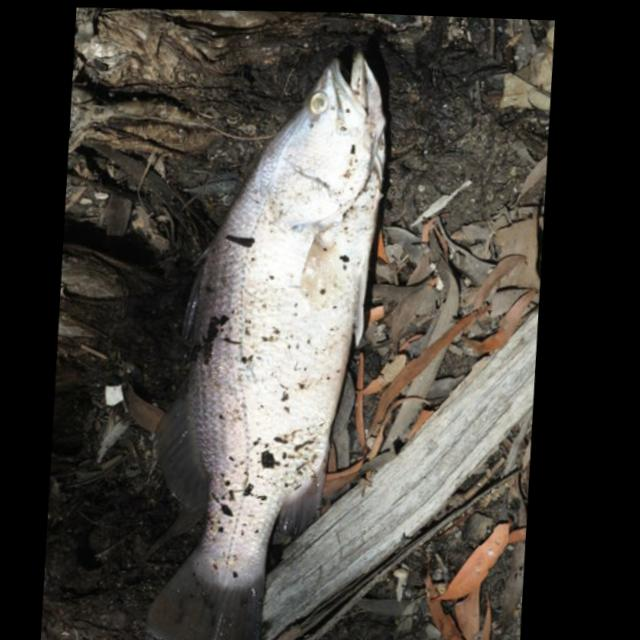Seabass: (128, 41, 399, 640)
